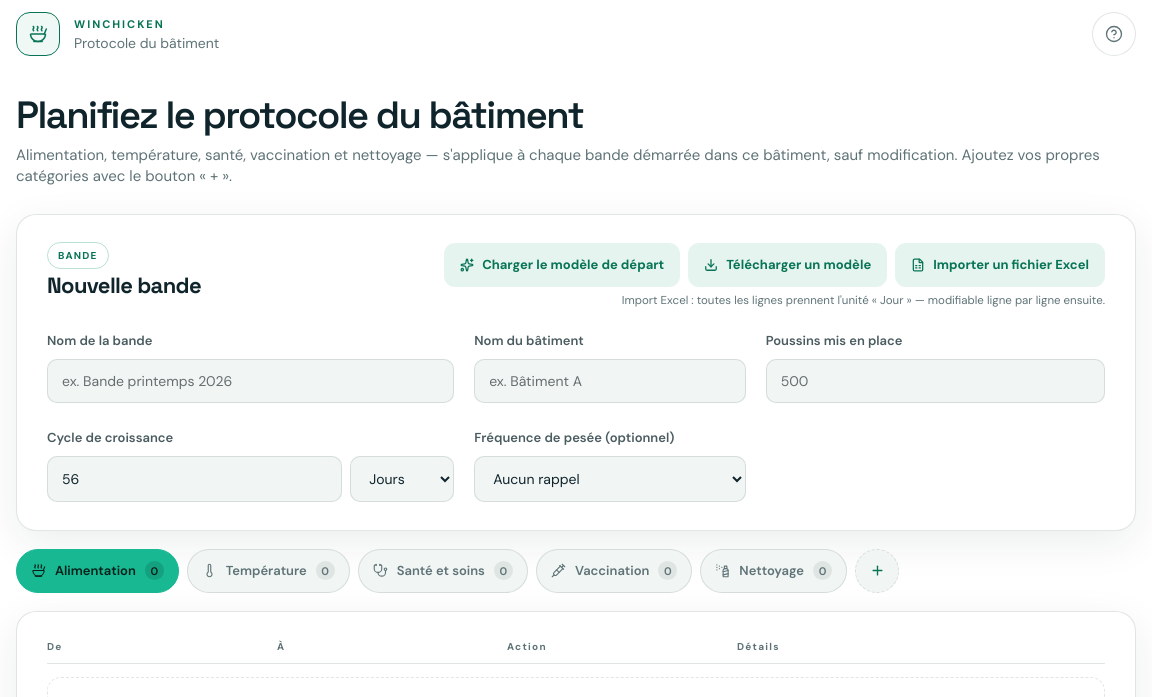
Test: HouseProtocolForm — import Excel (full replacement) › warns before parsing anything, and does nothing on cancel
Click the button "Importer un fichier Excel": click(1000, 265) [895,243,1105,287]
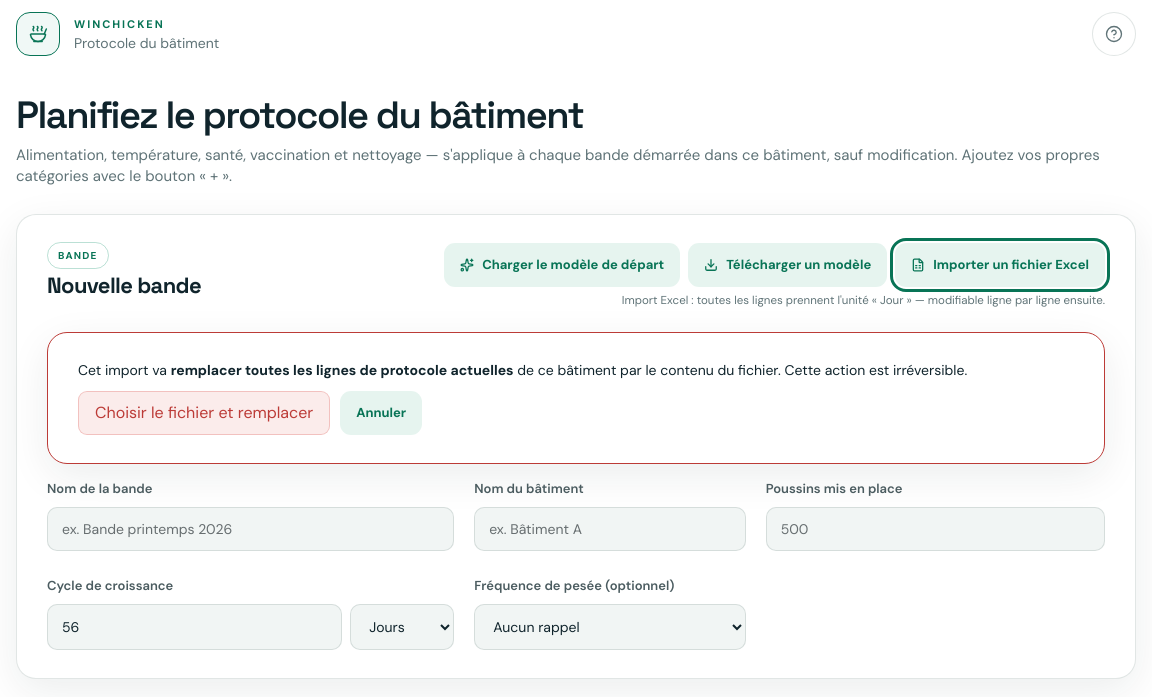
Expected: the text "remplacer toutes les lignes de protocole actuelles" is shown, [171,361,514,379]
Expected: the text "irréversible" is shown, [514,361,967,379]
Click the button "Annuler": click(381, 413) [340,391,422,435]
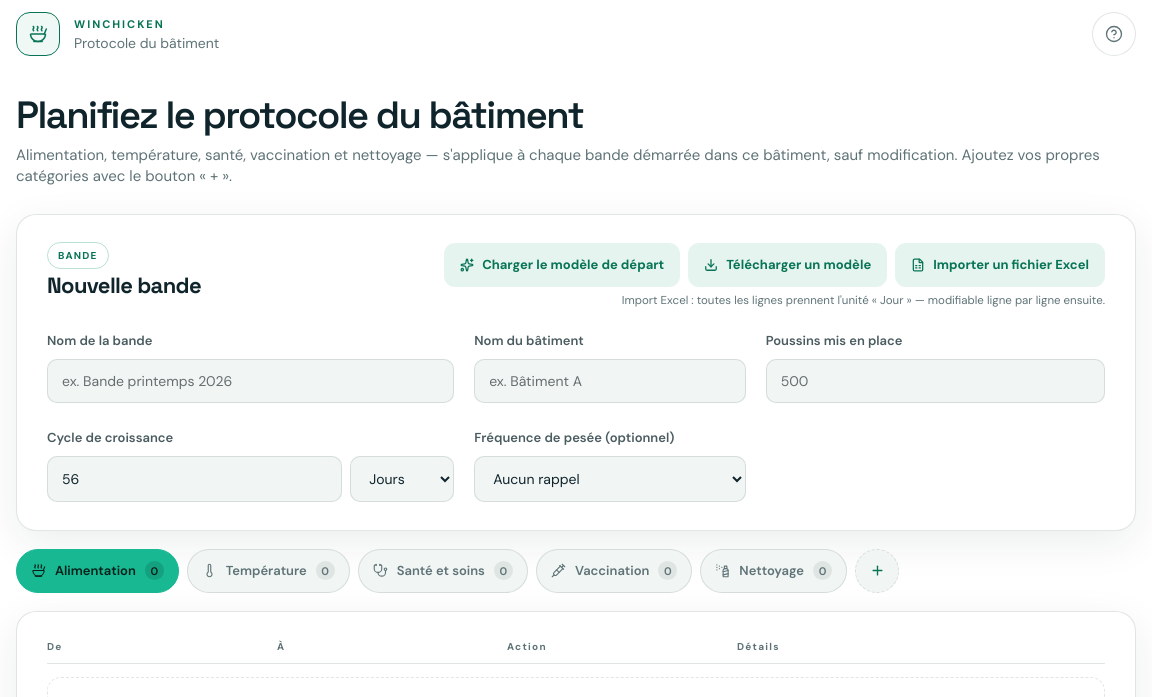
Expected: the text "remplacer toutes les lignes" is gone
